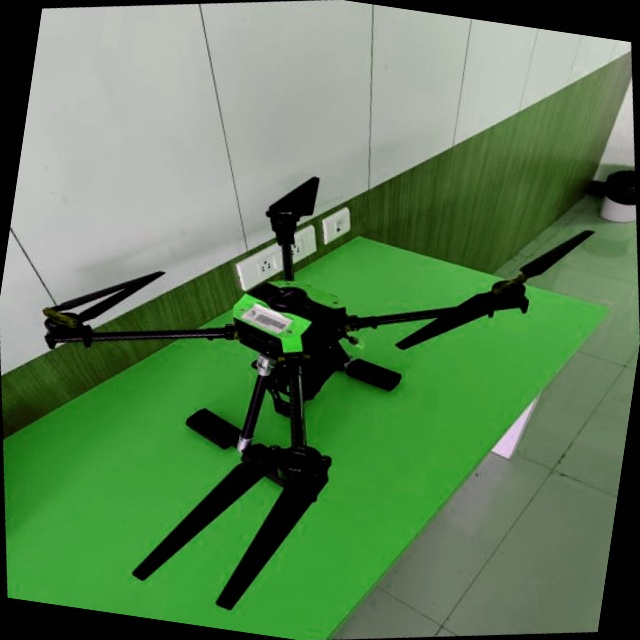quadcopter: (0, 82, 640, 640)
